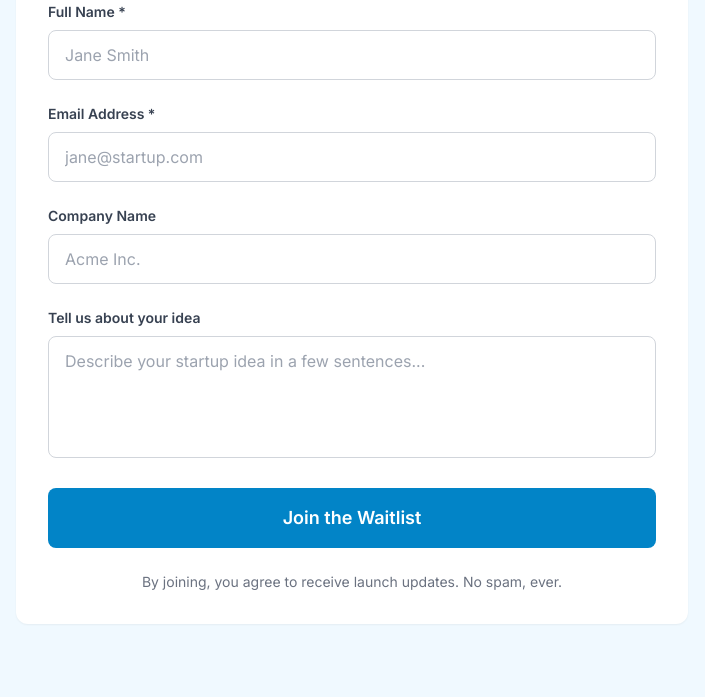
WaitlistForm › shows validation error for empty name on submit
(page scrolled)
Step 1. Click the button "Join the Waitlist" → (352, 518), box left=48, top=488, right=656, bottom=548
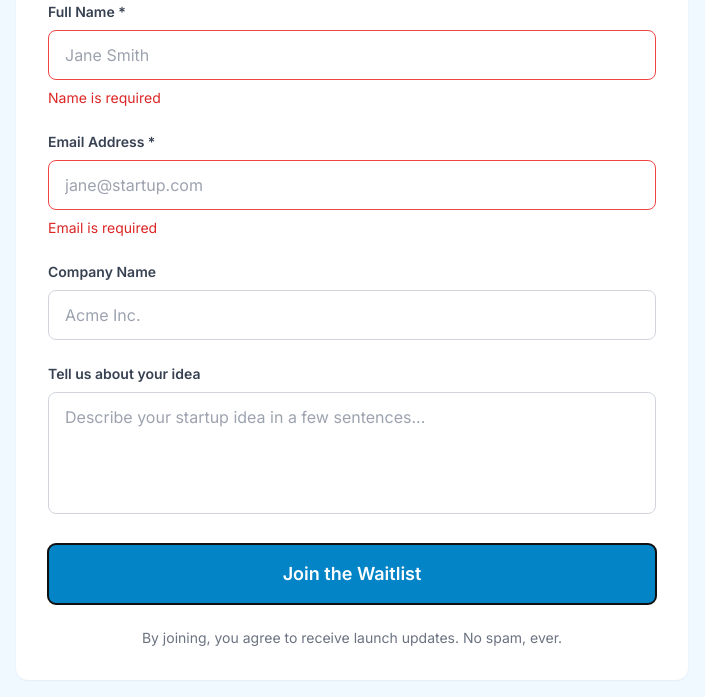
Expected: the text "Name is required" is shown, left=48, top=89, right=161, bottom=106
